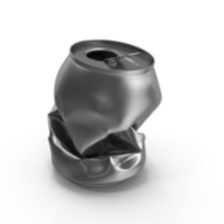can: (42, 38, 166, 191)
